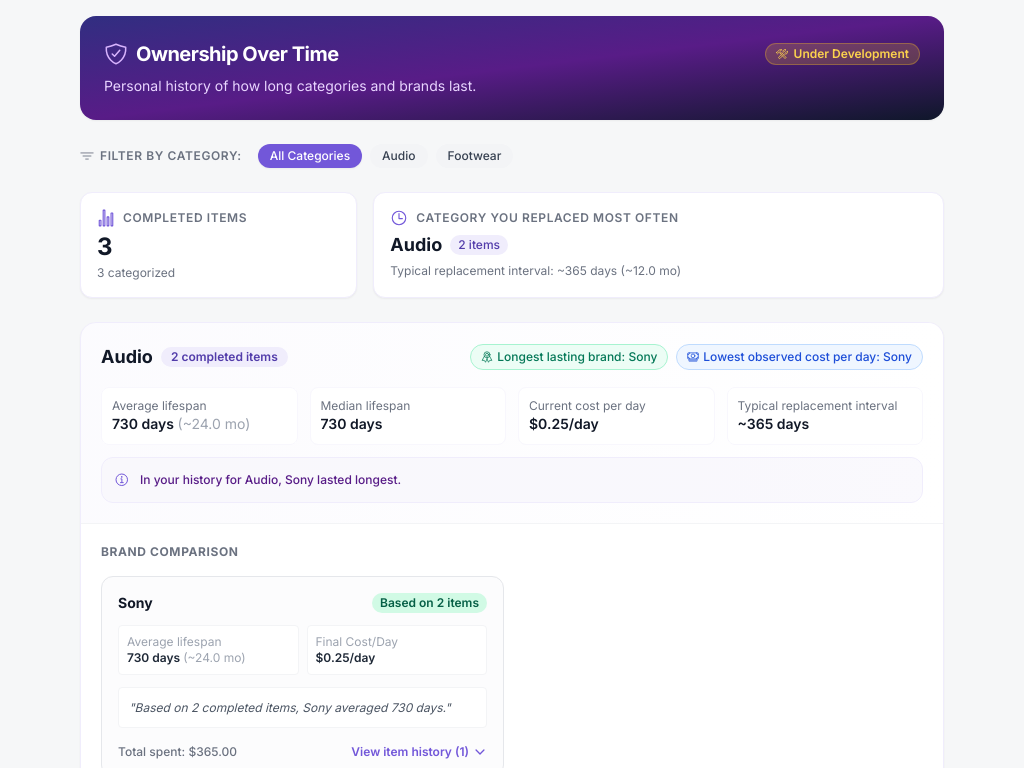
Test case: DurabilityAnalytics Component › renders category and brand durability analytics with pattern and observation badges
The image size is (1024, 768).
Expected: the heading "Ownership Over Time" is shown, [136,40,339,68]
Expected: the text "Under Development" is shown, [765,43,920,65]
# Toggle evidence
What coordinates should you click on to do the following:
click the button "View item history (1)"
I would click on:
 (419, 752)
Its box is [351,744,487,760].
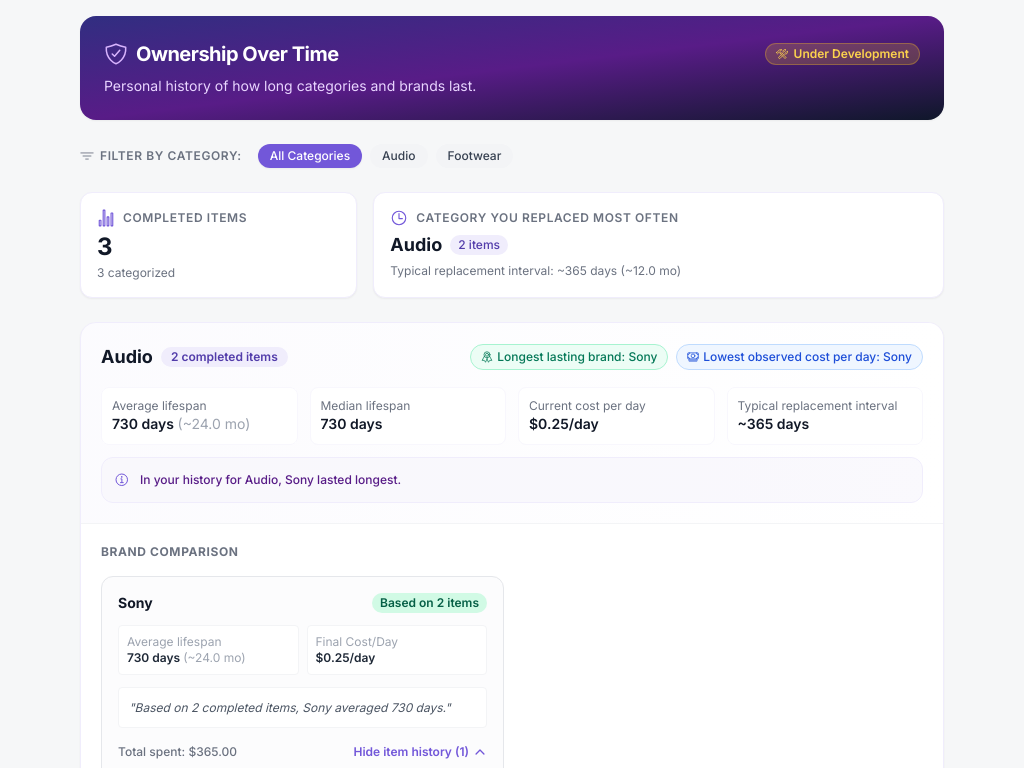
Expected: the text "Hide item history (1)" is shown, [354,744,469,760]
